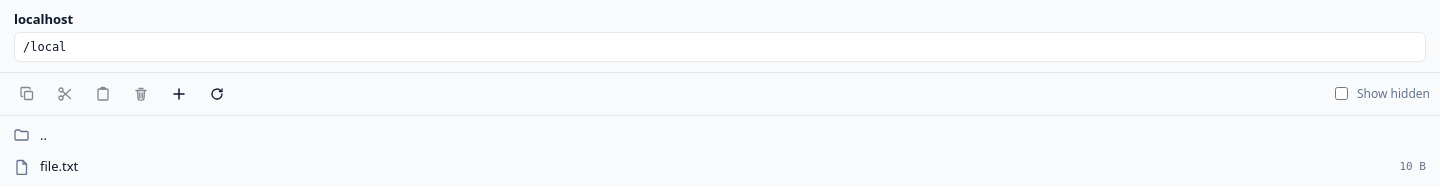
Test: SftpPane smoke › typing a path lists subdirectories as folder suggestions
Step 1. Replace the text in the dropdown named "current path" with "/local/lo" → (720, 46), box [14, 32, 1426, 62]
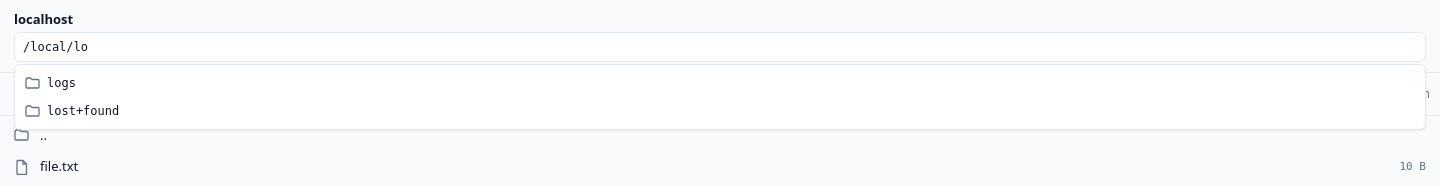
Expected: the option "logs" is shown, [25, 74, 76, 90]
Expected: the option "lost+found" is shown, [25, 102, 119, 118]
